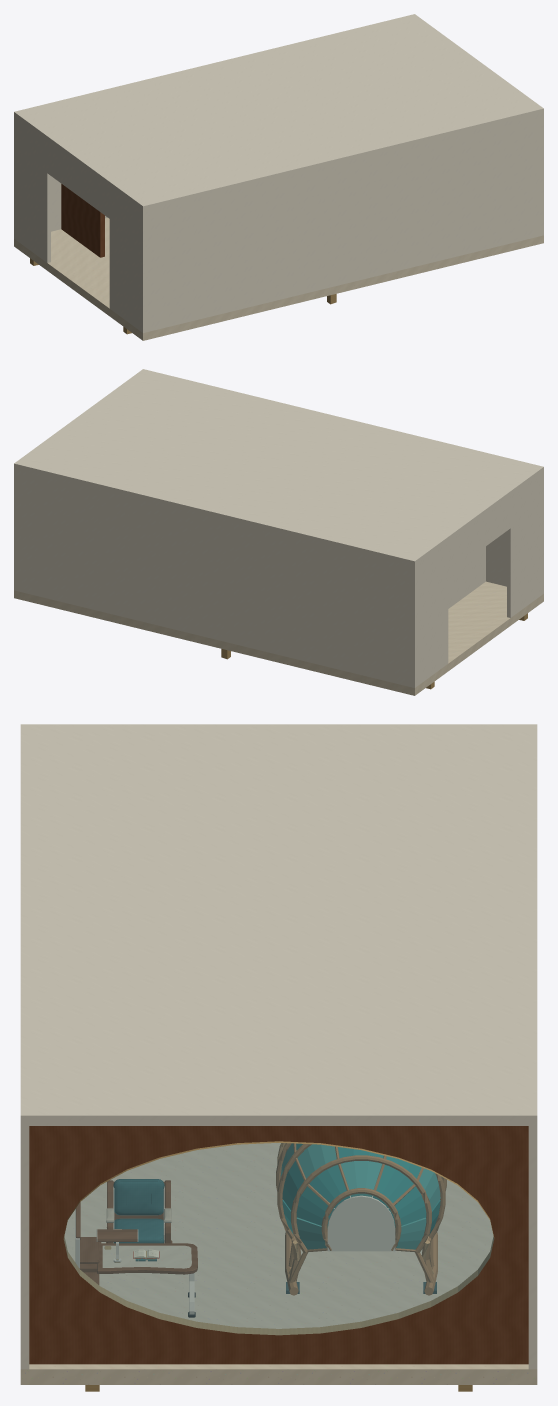
File: StarAtlasSpecialty_413.glb
The picture shows the model from 3 angles, top to bottom: view 1: azimuth 30°, elevation 25°; view 2: azimuth 150°, elevation 25°; view 3: azimuth 270°, elevation 25°; orthographic projection. The views are drawn at different scales.
Visible parts, largest first — view 1: SA413_Ceiling, SA413_SouthSide, SA413_RoomFloor, SA413_EntryShoulderNorth, SA413_EntryShoulderSouth, SA413_EntryHeader, SA413_EntryPrivacyDogleg, SA413_NorthSide; view 2: SA413_Ceiling, SA413_NorthSide, SA413_RoomFloor, SA413_EntryShoulderSouth, SA413_EntryShoulderNorth, SA413_EntryHeader, SA413_WashEntrySide, SA413_SouthSide; view 3: SA413_Ceiling, SA413_OvalAtriumGlass, SA413_OvalWindowReveal, SA413_RoomFloor, SA413_OvalDepthReturn, SA413_ReservedRestSupport__Rear ivory acoustic diffuser, SA413_NorthSide, SA413_SouthSide, SA413_DayReadingChair__DAY_CHAIR_single_reclined_back_cushio, SA413_LibraryStudyEdge__SINGLE_inset_stone_writing_surface, SA413_ReservedRestSupport__Exposed ash hood rib 04, SA413_LibraryStudyEdge__SINGLE_carved_walnut_writing_edge (+9 smaller).
Boxes of the visible parts, left/top/right/bottom form: SA413_Ceiling: left=14, top=14, right=543, bottom=211; SA413_SouthSide: left=141, top=114, right=543, bottom=332; SA413_RoomFloor: left=14, top=218, right=543, bottom=340; SA413_EntryShoulderNorth: left=16, top=119, right=50, bottom=262; SA413_EntryShoulderSouth: left=109, top=187, right=140, bottom=331; SA413_EntryHeader: left=46, top=141, right=110, bottom=219; SA413_EntryPrivacyDogleg: left=61, top=184, right=104, bottom=257; SA413_NorthSide: left=14, top=117, right=107, bottom=239; SA413_Ceiling: left=14, top=369, right=543, bottom=566; SA413_NorthSide: left=14, top=469, right=416, bottom=687; SA413_RoomFloor: left=14, top=581, right=543, bottom=695; SA413_EntryShoulderSouth: left=507, top=474, right=541, bottom=617; SA413_EntryShoulderNorth: left=417, top=543, right=448, bottom=686; SA413_EntryHeader: left=447, top=496, right=511, bottom=574; SA413_WashEntrySide: left=448, top=546, right=485, bottom=608; SA413_SouthSide: left=486, top=472, right=543, bottom=594; SA413_Ceiling: left=20, top=724, right=537, bottom=1125; SA413_OvalAtriumGlass: left=64, top=1143, right=493, bottom=1334; SA413_OvalWindowReveal: left=29, top=1126, right=528, bottom=1364; SA413_RoomFloor: left=20, top=1143, right=537, bottom=1384; SA413_OvalDepthReturn: left=63, top=1141, right=494, bottom=1335; SA413_ReservedRestSupport__Rear ivory acoustic diffuser: left=327, top=1195, right=395, bottom=1251; SA413_NorthSide: left=528, top=1126, right=537, bottom=1369; SA413_SouthSide: left=20, top=1126, right=29, bottom=1369; SA413_DayReadingChair__DAY_CHAIR_single_reclined_back_cushio: left=113, top=1179, right=164, bottom=1214; SA413_LibraryStudyEdge__SINGLE_inset_stone_writing_surface: left=102, top=1245, right=191, bottom=1268; SA413_ReservedRestSupport__Exposed ash hood rib 04: left=291, top=1155, right=431, bottom=1253; SA413_LibraryStudyEdge__SINGLE_carved_walnut_writing_edge: left=97, top=1243, right=197, bottom=1274.
Size of what is drawn, in the model's own units: 12.9 by 4.91 by 7.2.
Materials: 58 (43 with a texture image).
